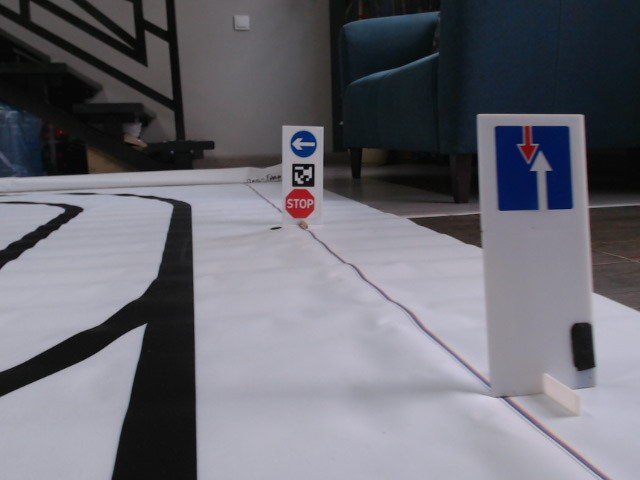Stop: (285, 188, 315, 218)
priority_movement: (492, 125, 574, 213)
